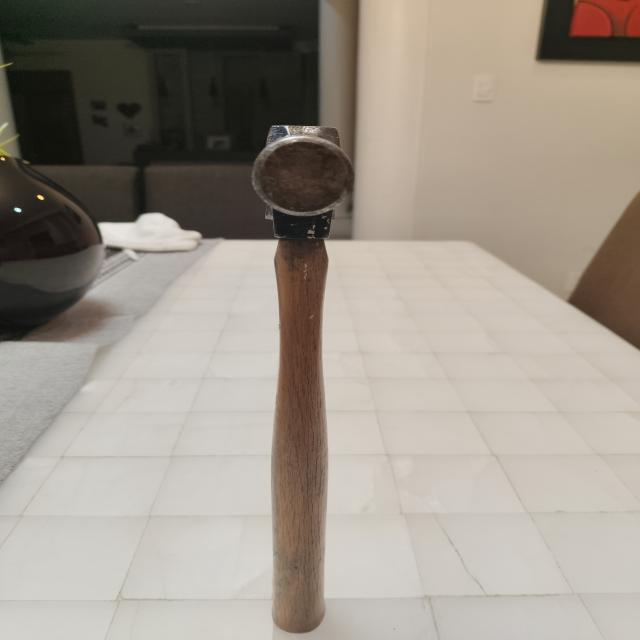Martillo: (185, 69, 425, 640)
